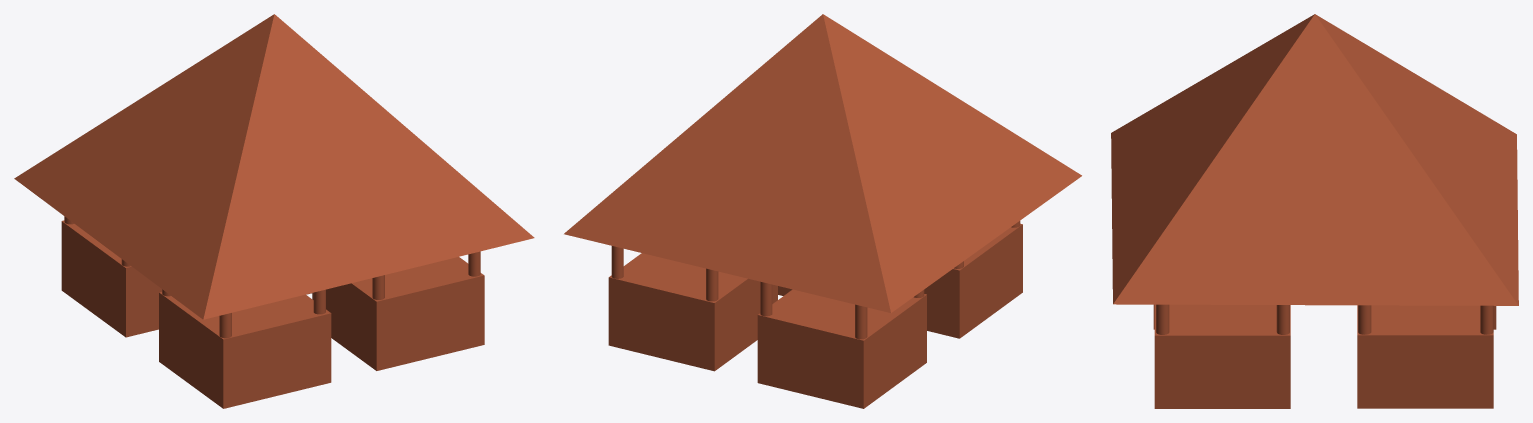
The model's file is houseWithpaths.fbx.
3 renders of one model, left to right at view 1: azimuth 30°, elevation 25°; view 2: azimuth 150°, elevation 25°; view 3: azimuth 270°, elevation 25°, orthographic. The views are drawn at different scales.
Parts seen in each view (by area): view 1: Roof, DeltaFoundation, CharlieFoundation, BetaFoundation; view 2: Roof, BetaFoundation, AlphaFoundation, DeltaFoundation; view 3: Roof, CharlieFoundation, AlphaFoundation, supportColumncharlie1, supportColumncharlie2, supportColumnalpha3, supportColumnalpha4.
Part boxes in pixels (<box>): Roof: <box>14,14,534,319</box>; DeltaFoundation: <box>159,292,331,408</box>; CharlieFoundation: <box>312,257,484,370</box>; BetaFoundation: <box>61,220,161,337</box>; Roof: <box>564,14,1081,312</box>; BetaFoundation: <box>757,289,926,408</box>; AlphaFoundation: <box>608,253,777,371</box>; DeltaFoundation: <box>924,223,1022,338</box>; Roof: <box>1111,14,1518,305</box>; CharlieFoundation: <box>1154,304,1290,408</box>; AlphaFoundation: <box>1357,305,1493,408</box>; supportColumncharlie1: <box>1156,304,1169,334</box>; supportColumncharlie2: <box>1276,305,1289,334</box>; supportColumnalpha3: <box>1358,305,1371,334</box>; supportColumnalpha4: <box>1480,305,1493,334</box>.
Bounding box in the file's own units: 36.15 × 31.74 × 36.01.
